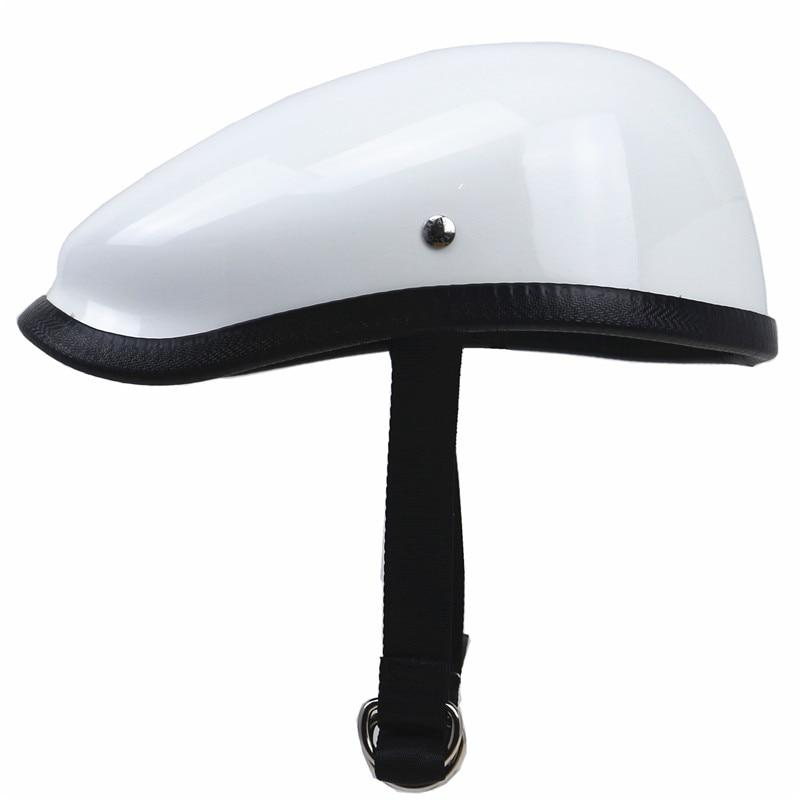with_helmet: (11, 35, 783, 384)
